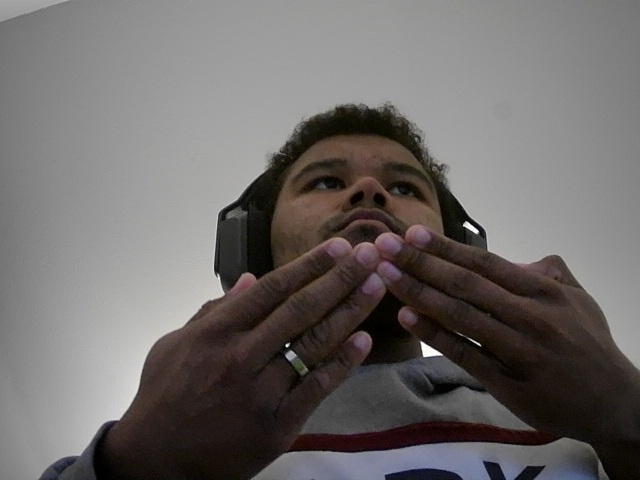ThankYou: (72, 222, 640, 480)
